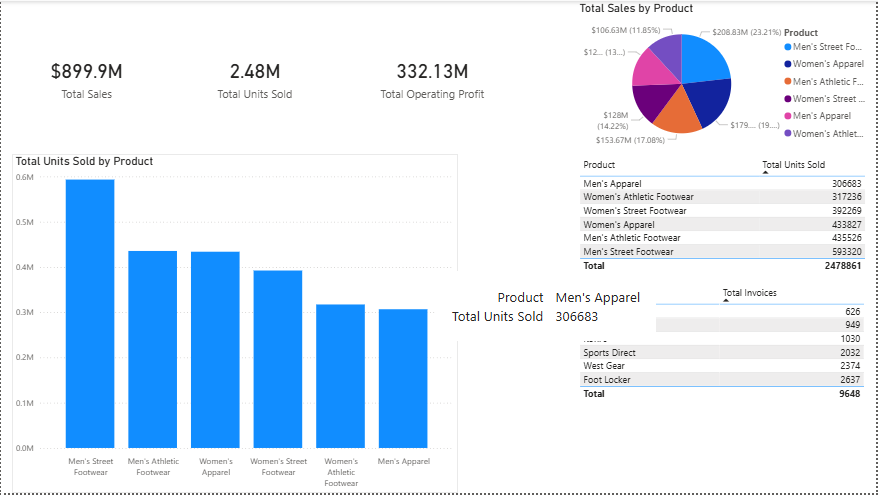

The page's visual inventory and layout, read from the dashboard file:
{"tool":"powerbi","page":{"name":"Page 1","canvas":[1280,720],"ordinal":0},"visuals":[{"type":"columnChart","fields":{"Category":["Table 1 (Data Sales Adidas).Product"],"Y":["Sum(Table 1 (Data Sales Adidas).Units Sold)"]},"box":[16.8,223.4,651.8,497.2],"z":0},{"type":"pieChart","fields":{"Category":["Table 1 (Data Sales Adidas).Product"],"Y":["Sum(Table 1 (Data Sales Adidas).Total Sales)"]},"box":[841.6,0,438.4,223.4],"z":1000},{"type":"card","fields":{"Values":["Sum(Table 1 (Data Sales Adidas).Total Sales)"]},"box":[16.8,0,218.4,223.4],"z":2000},{"type":"card","fields":{"Values":["Sum(Table 1 (Data Sales Adidas).Units Sold)"]},"box":[235.2,0,272.1,223.4],"z":3000},{"type":"tableEx","fields":{"Values":["Table 1 (Data Sales Adidas).Product","Sum(Table 1 (Data Sales Adidas).Units Sold)"]},"box":[841.6,223.4,438.4,188.1],"z":4000},{"type":"card","fields":{"Values":["Sum(Table 1 (Data Sales Adidas).Operating Profit)"]},"box":[507.3,0,246.9,223.4],"z":5000},{"type":"tableEx","fields":{"Values":["Table 1 (Data Sales Adidas).Retailer","CountNonNull(Table 1 (Data Sales Adidas).Retailer ID)"]},"box":[841.6,411.5,435.1,210],"z":6000}]}

Visuals, with their boxes in screenshot pixels (x1, y1, x2, y2), scaled from the page's 1280x720 canvas onto the 878x496 screenshot:
columnChart - Table 1 (Data Sales Adidas).Product x Sum(Table 1 (Data Sales Adidas).Units Sold): [12, 154, 459, 495]
pieChart - Table 1 (Data Sales Adidas).Product x Sum(Table 1 (Data Sales Adidas).Total Sales): [577, 0, 877, 154]
card - Sum(Table 1 (Data Sales Adidas).Total Sales): [12, 0, 161, 154]
card - Sum(Table 1 (Data Sales Adidas).Units Sold): [161, 0, 348, 154]
tableEx - Table 1 (Data Sales Adidas).Product x Sum(Table 1 (Data Sales Adidas).Units Sold): [577, 154, 877, 283]
card - Sum(Table 1 (Data Sales Adidas).Operating Profit): [348, 0, 517, 154]
tableEx - Table 1 (Data Sales Adidas).Retailer x CountNonNull(Table 1 (Data Sales Adidas).Retailer ID): [577, 283, 876, 428]
